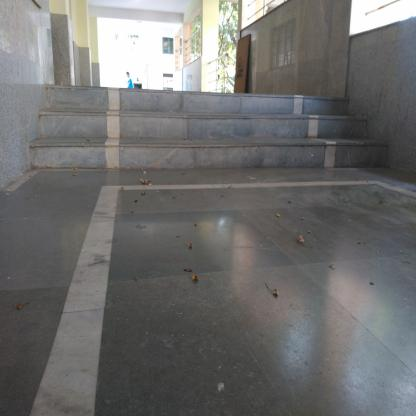stairs: (50, 91, 344, 173)
